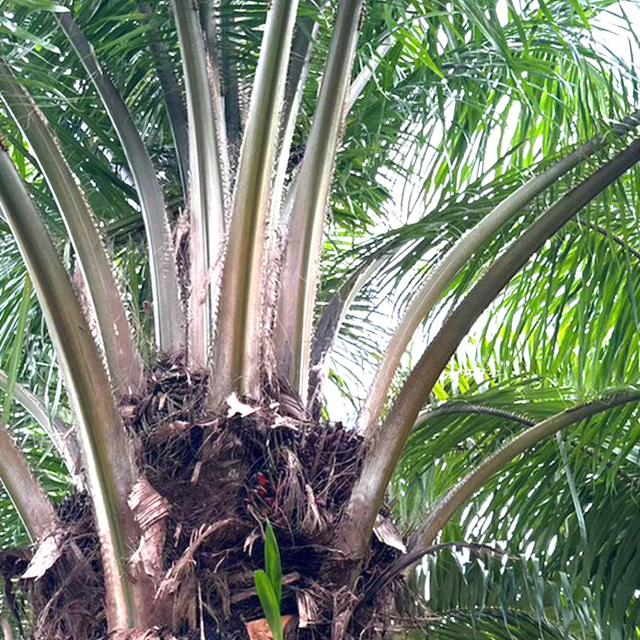ripe: (228, 403, 391, 554)
